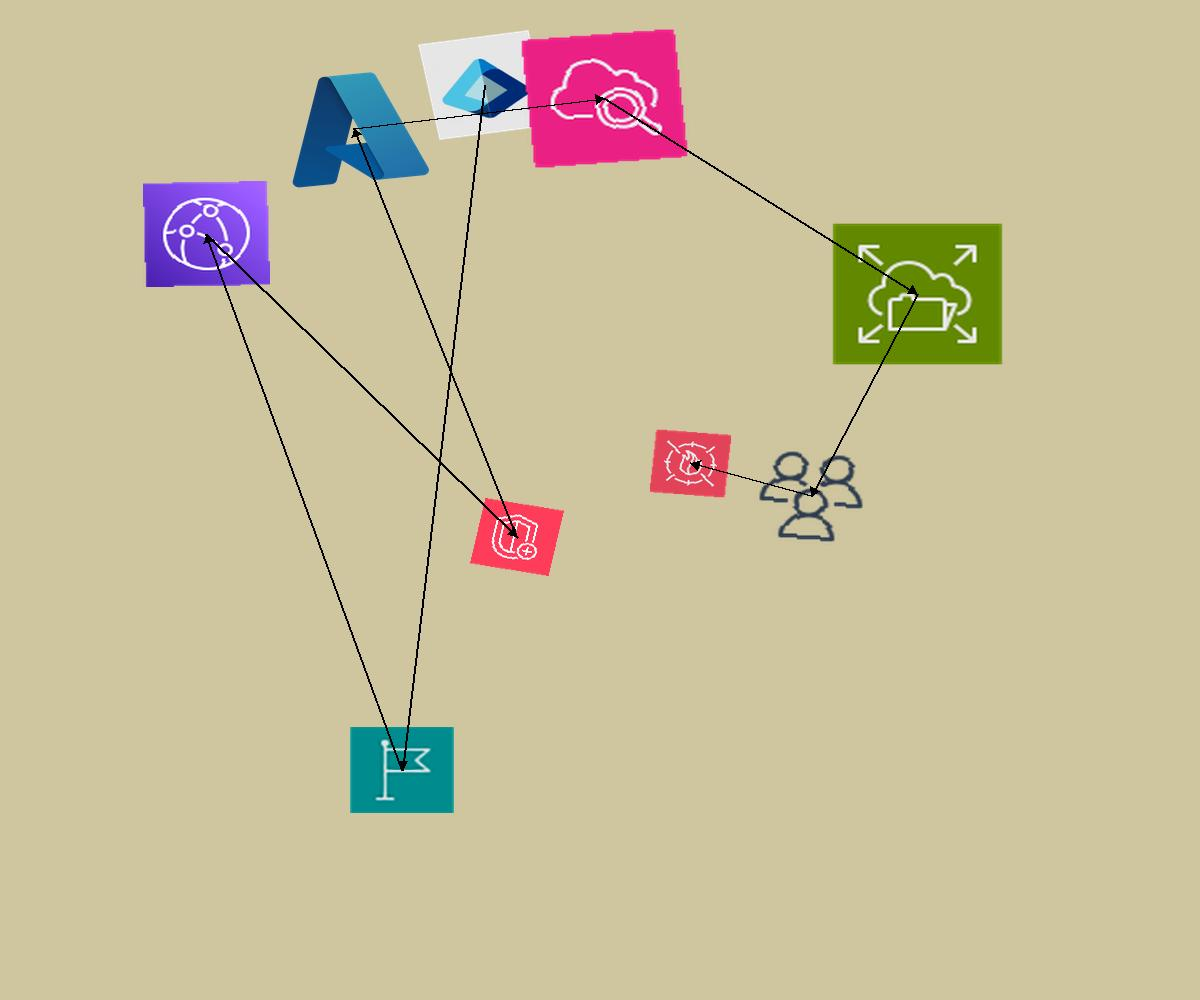AWS-CloudFront: (143, 181, 270, 287)
AWS-CloudWatch: (520, 28, 689, 169)
AWS-EFS: (831, 222, 1004, 366)
AWS-Region: (349, 726, 455, 814)
AWS-Res_Users: (748, 444, 874, 549)
AWS-Shield: (470, 498, 564, 576)
AWS-WAF: (649, 429, 732, 498)
Azure_microsoft_entra: (418, 30, 550, 140)
Azure_services: (271, 59, 437, 197)
